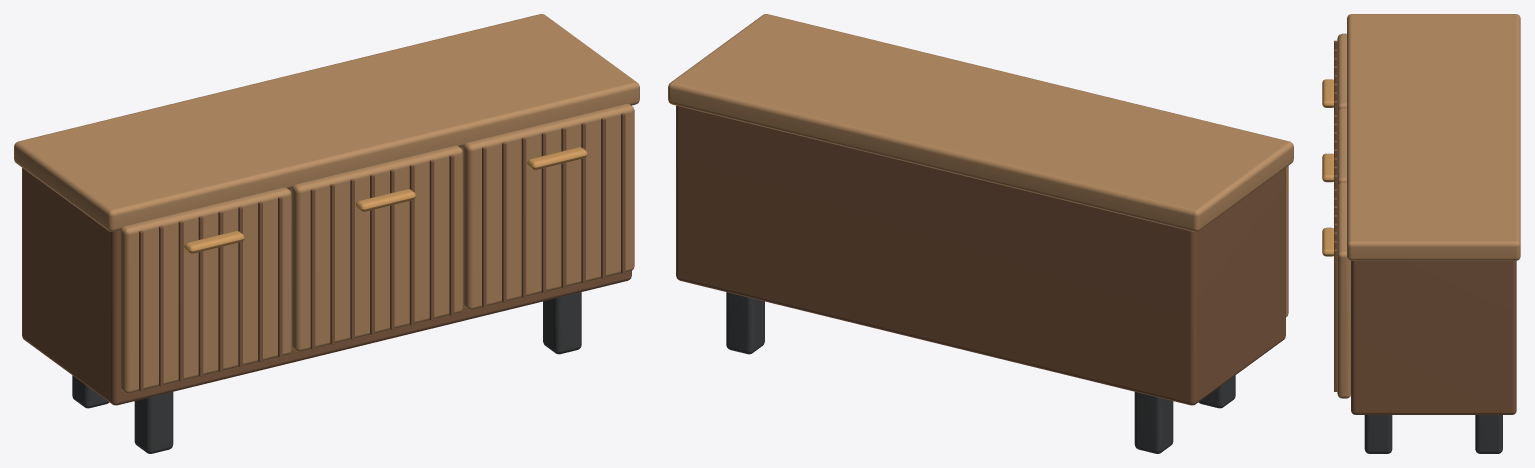
Rendered from buffet-ripado.glb.
3 renders of one model, left to right at view 1: azimuth 30°, elevation 25°; view 2: azimuth 150°, elevation 25°; view 3: azimuth 270°, elevation 25°, orthographic. The views are drawn at different scales.
Parts seen in each view (by area): view 1: Tampo, Frente frisada.001, Frente frisada, Frente frisada.002, Corpo, Pé, Pé.002, Friso.014, Friso.018, Friso.002, Friso.008, Friso.015 (+23 smaller); view 2: Corpo, Tampo, Pé.001, Pé.003, Pé; view 3: Tampo, Corpo, Frente frisada.002, Pé.002, Pé.003, Frente frisada, Frente frisada.001, Friso.023, Puxador.002, Puxador.001, Puxador.
Boxes of the visible parts, x1,y1,x2,y2 form: Tampo: (14,14,639,231); Frente frisada.001: (291,145,462,351); Frente frisada: (120,187,291,393); Frente frisada.002: (463,104,634,309); Corpo: (22,147,631,405); Pé: (134,392,173,453); Pé.002: (543,292,581,354); Friso.014: (429,159,434,320); Friso.018: (521,137,526,297); Friso.002: (178,221,183,381); Friso.008: (310,189,315,349); Friso.015: (449,155,454,315); Corpo: (676,105,1285,405); Tampo: (668,14,1293,231); Pé.001: (1134,392,1173,453); Pé.003: (726,292,764,354); Pé: (1198,375,1235,408); Tampo: (1347,14,1520,260); Corpo: (1351,261,1516,414); Frente frisada.002: (1337,182,1350,398); Pé.002: (1364,415,1392,453); Pé.003: (1475,415,1502,453); Frente frisada: (1337,33,1346,112); Frente frisada.001: (1337,108,1346,186); Friso.023: (1334,249,1337,391); Puxador.002: (1322,227,1333,256); Puxador.001: (1322,153,1333,182); Puxador: (1322,79,1333,107).
Bounding box in the file's own units: 2.76 × 1.3 × 1.
